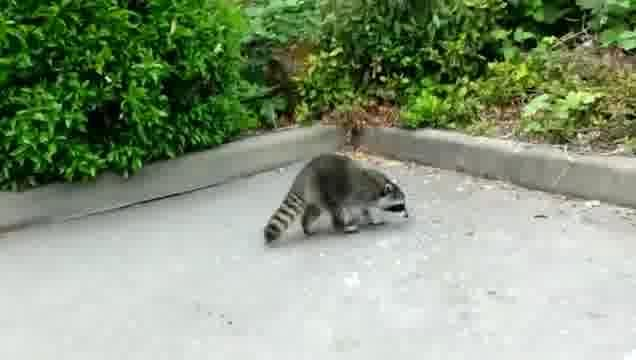raccoon: (263, 152, 411, 245)
